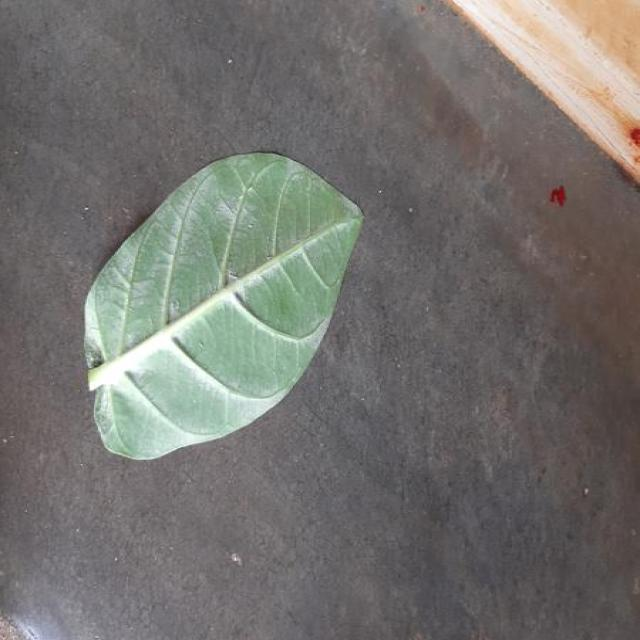ekka: (88, 154, 363, 458)
